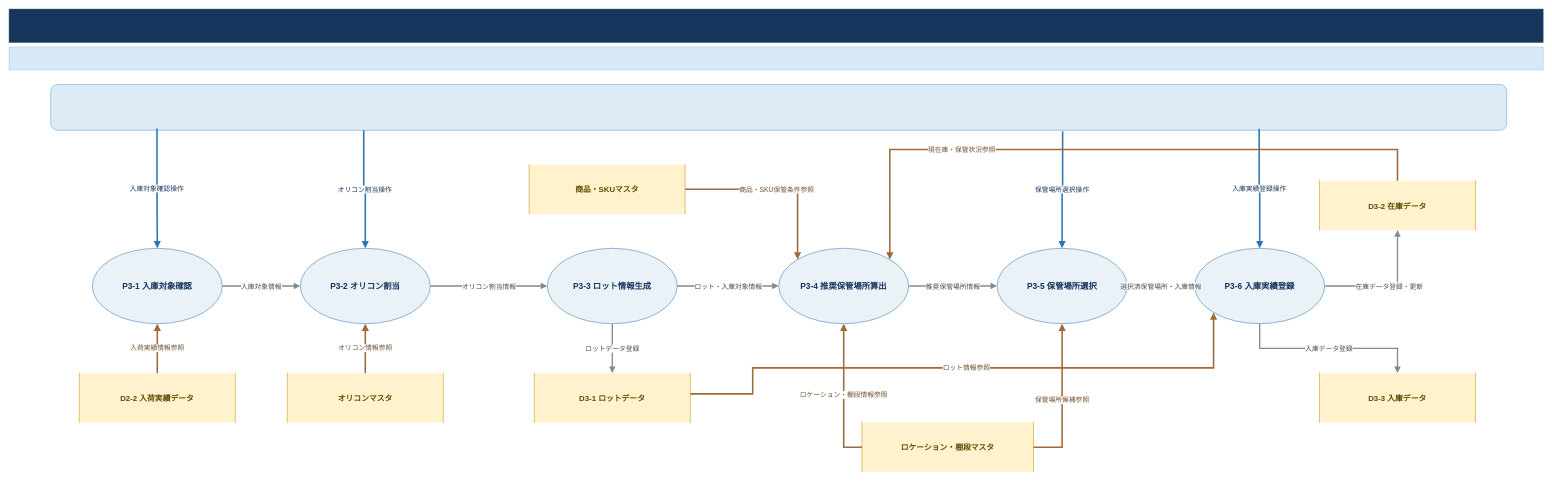
This 1552x481 diagram has some shape labels left out. The centre of each missing label's shape, as x and y in pixels:
"KAKUU WMS｜詳細DFD P3 入庫管理" goes at pixel 776 25.
"入庫対象確認から保管場所選択・入庫実績登録までのデータフローを示す。" goes at pixel 776 58.
"社員（入荷担当者）" goes at pixel 778 107.
